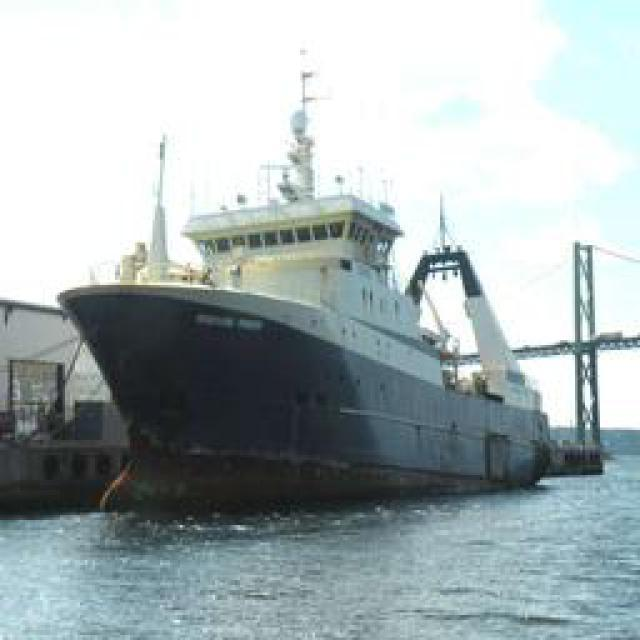Ship: (59, 170, 579, 503)
